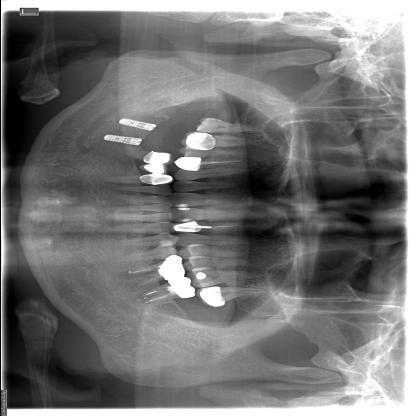ITI: (114, 116, 159, 132), (102, 133, 142, 146)
